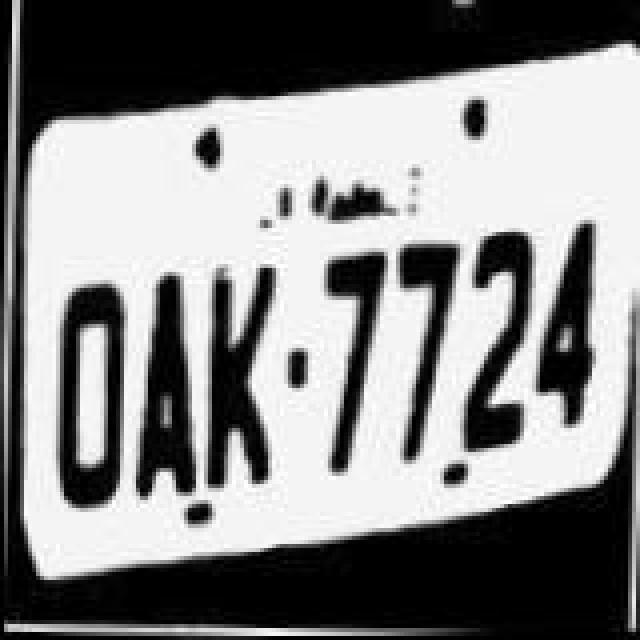2: (458, 218, 538, 462)
4: (530, 212, 610, 432)
7: (310, 246, 394, 486), (388, 232, 460, 472)
A: (126, 254, 210, 514)
K: (198, 250, 282, 518)
O: (42, 262, 134, 526)
